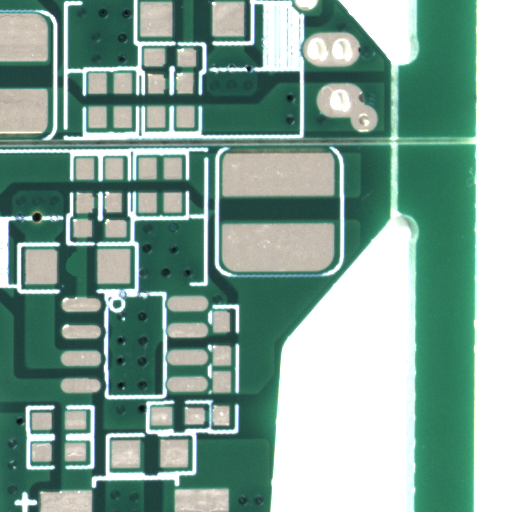Spur: (71, 264, 82, 289)
